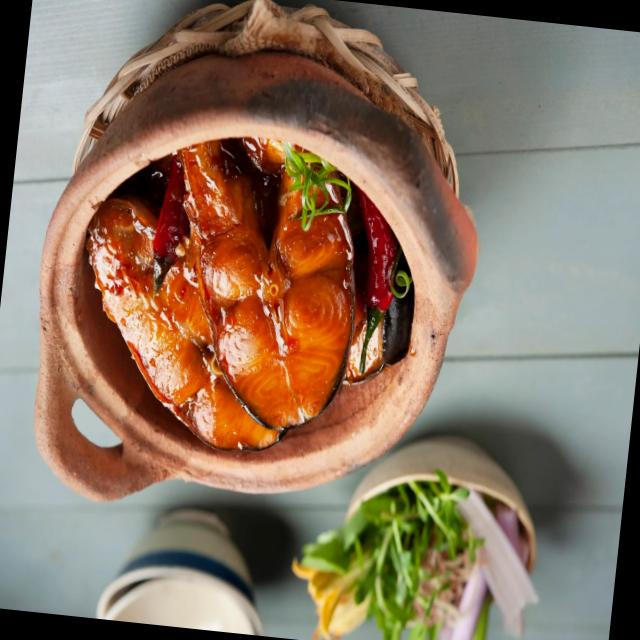ca kho: (86, 141, 382, 449)
